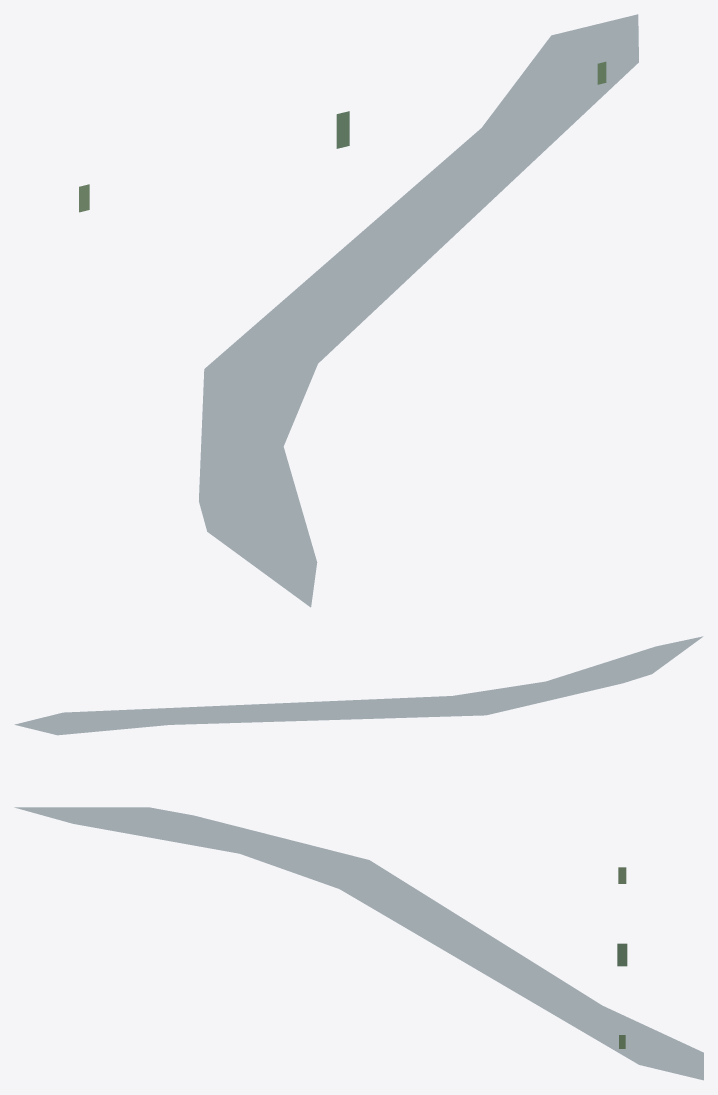
The picture shows the model from 3 angles, top to bottom: view 1: azimuth 30°, elevation 25°; view 2: azimuth 150°, elevation 25°; view 3: azimuth 270°, elevation 25°; orthographic projection. The views are drawn at different scales.
Size of the model in its own units: 198 by 7.84 by 211.
